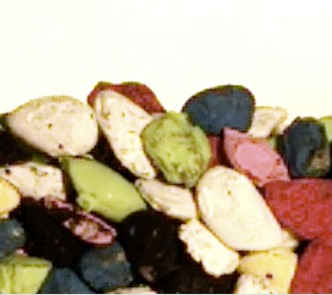black: (13, 197, 87, 267), (115, 211, 184, 259)
blue: (180, 84, 255, 137), (279, 111, 329, 181), (74, 243, 134, 291)
green: (140, 114, 209, 188)
pink: (222, 128, 290, 186), (45, 194, 117, 246)
red: (88, 80, 168, 119)
white: (197, 168, 288, 253), (5, 94, 101, 159), (94, 90, 158, 181), (177, 218, 240, 277), (1, 160, 76, 207), (133, 176, 197, 221), (245, 104, 289, 142)
yellow: (238, 248, 299, 295)
